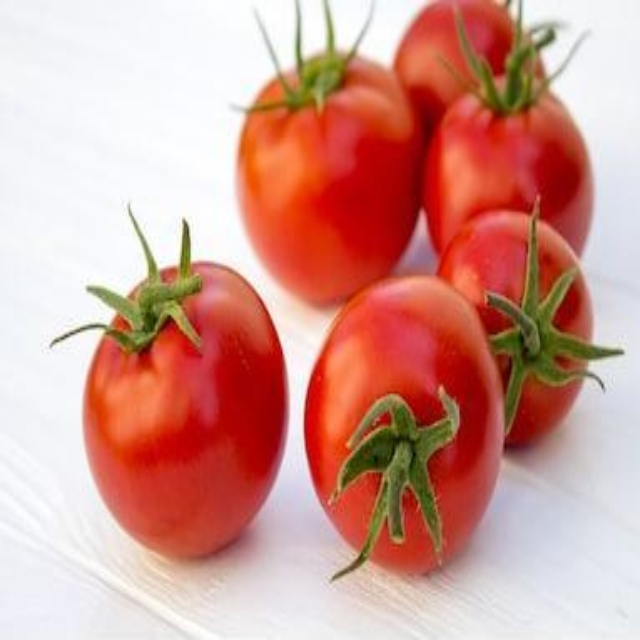tomato: (73, 270, 283, 558), (308, 276, 492, 576), (236, 53, 413, 303), (419, 80, 608, 281), (449, 220, 596, 436), (380, 3, 566, 123)
